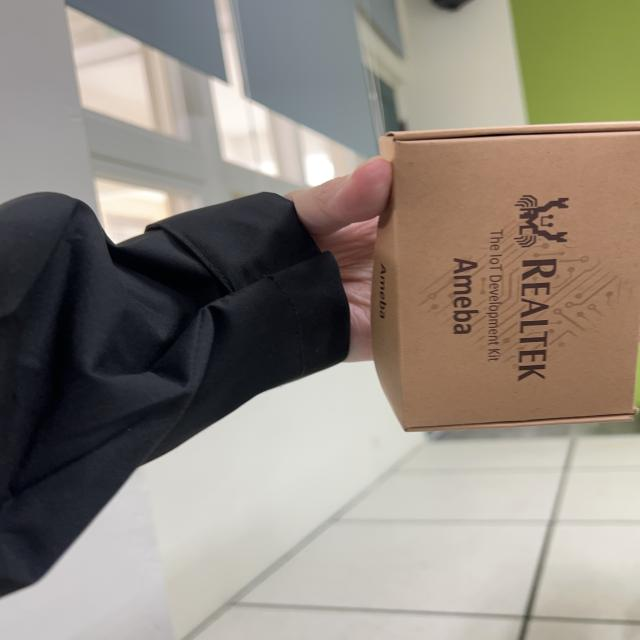box: (374, 122, 640, 480)
